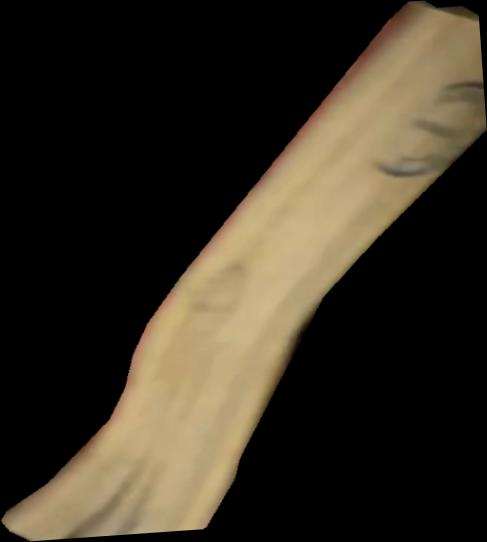backward: (1, 1, 487, 542)
